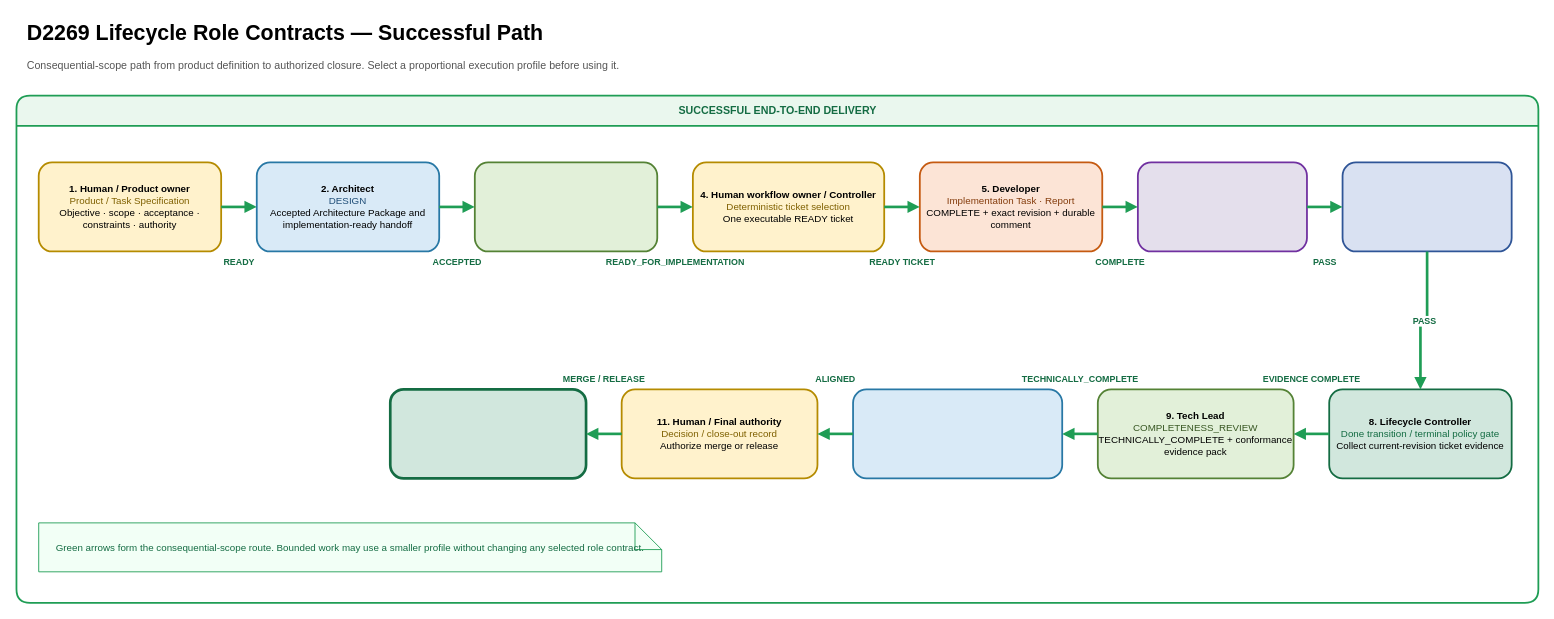
The diagram is 1554 pixels wide and 619 high, and some of its shapes have lost their labels. Here are the shapes that lost their labels. From the top down, the centre of each, then its label:
At [565,206]: "3. Tech Lead PLAN Implementation Plan and READY child-ticket specifications".
At [1222,206]: "6. Code Review Code Review Report PASS + durable comment".
At [1426,206]: "7. QA QA Report PASS + durable comment".
At [487,433]: "12. Lifecycle Controller Close scope Record the authorized terminal outcome".
At [957,433]: "10. Architect CONFORMANCE_REVIEW ALIGNED + durable architecture close-out".
